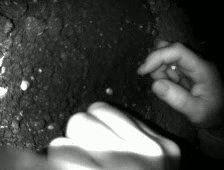corn: (19, 78, 32, 92), (104, 86, 114, 96)
